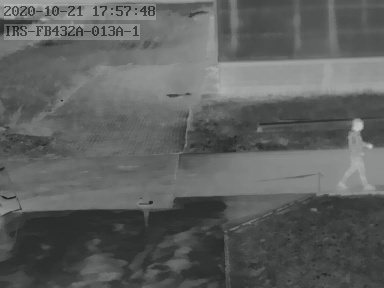person: (339, 118, 377, 186)
